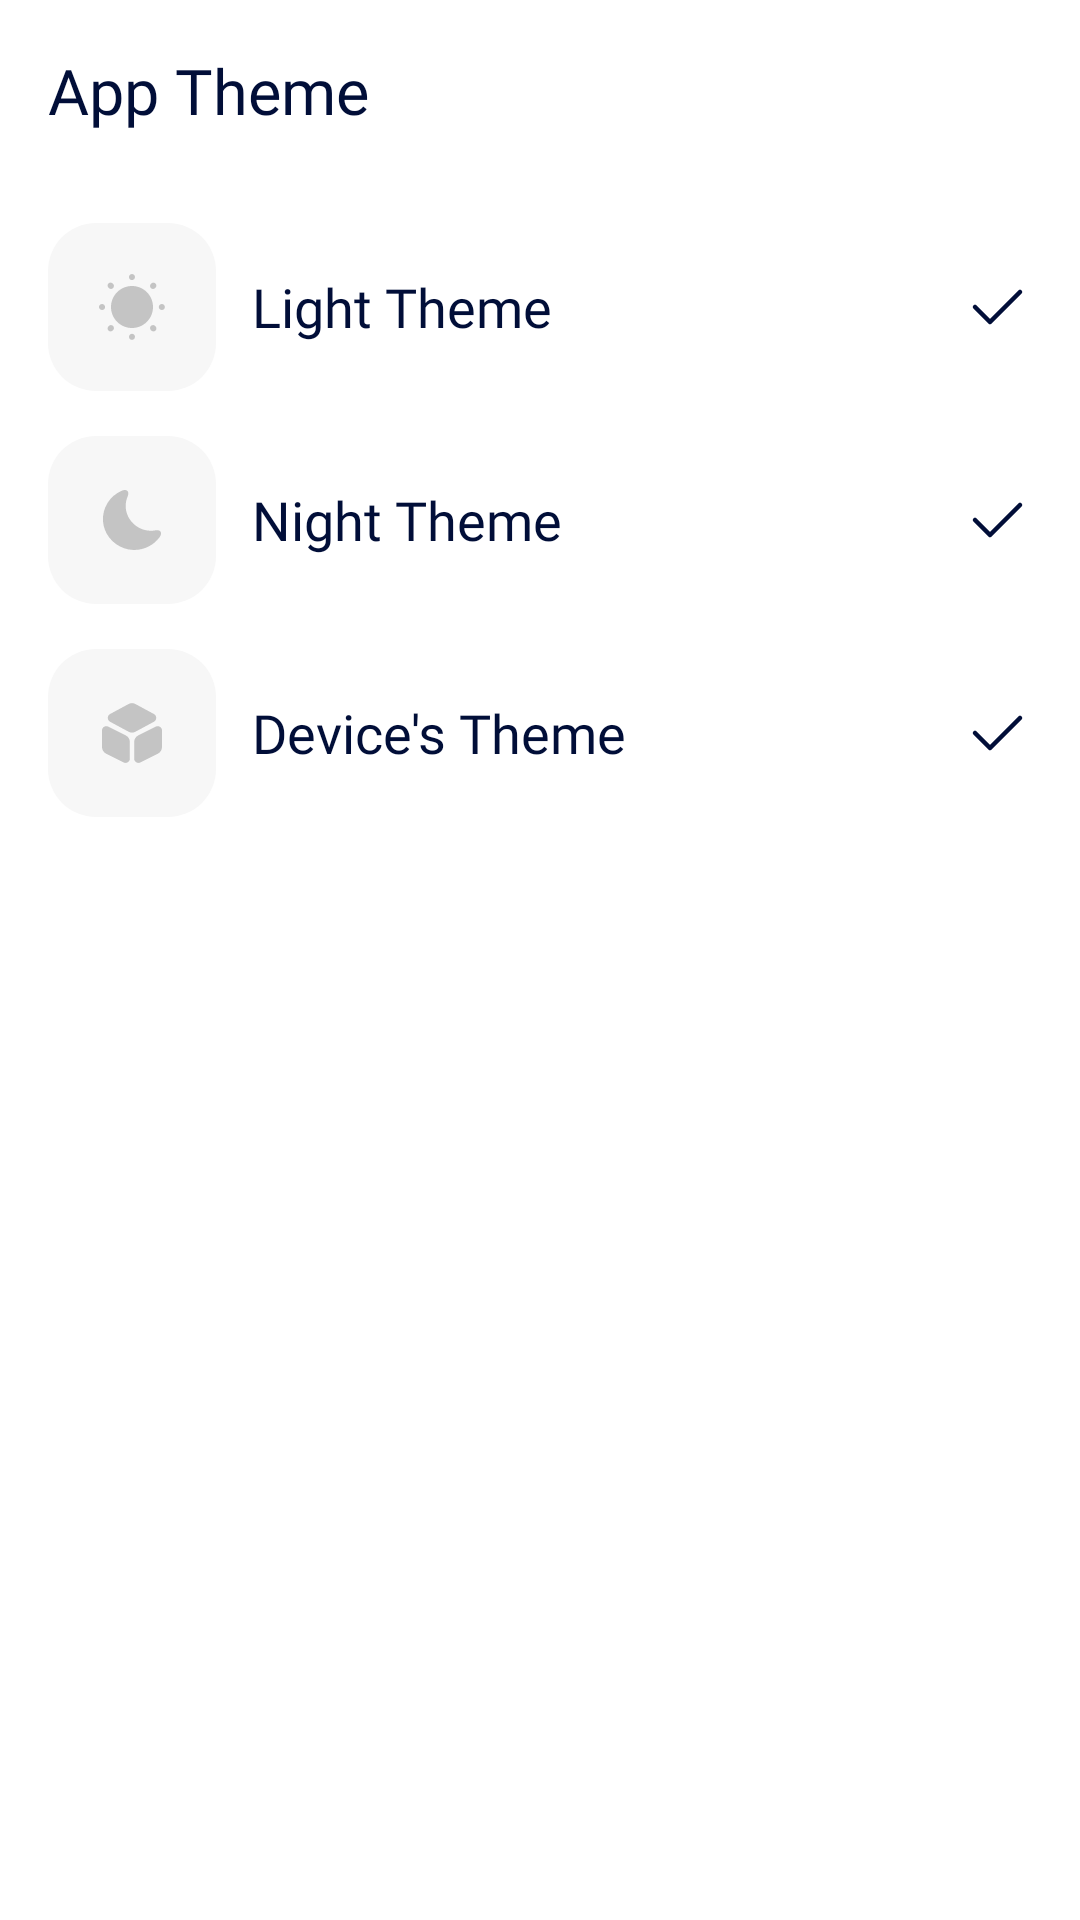

Icons on this 1080×1920 Android screen, each with its box as (x1, y1, x2, y2):
cube: (102, 703, 162, 763)
moon: (103, 490, 161, 550)
sun: (99, 274, 165, 340)
tick: (972, 289, 1023, 325), (972, 502, 1023, 538), (972, 715, 1023, 751)
